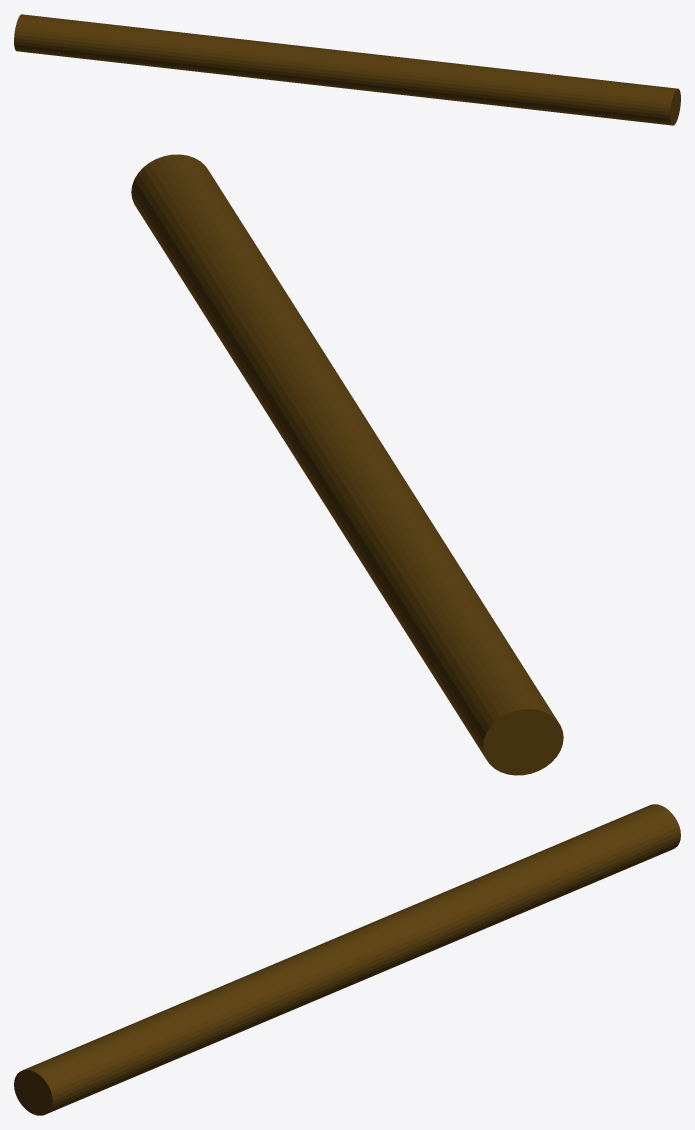
Rendered from stick.fbx.
3 renders of one model, top to bottom at view 1: azimuth 30°, elevation 25°; view 2: azimuth 150°, elevation 25°; view 3: azimuth 270°, elevation 25°, orthographic. The views are drawn at different scales.
Parts seen in each view (by area): view 1: 円柱; view 2: 円柱; view 3: 円柱.
Part boxes in pixels (bbox=[...]): 円柱: bbox=[14, 14, 680, 125]; 円柱: bbox=[131, 154, 563, 775]; 円柱: bbox=[14, 804, 680, 1115].
Bounding box in the file's own units: 261 × 18.61 × 261.
